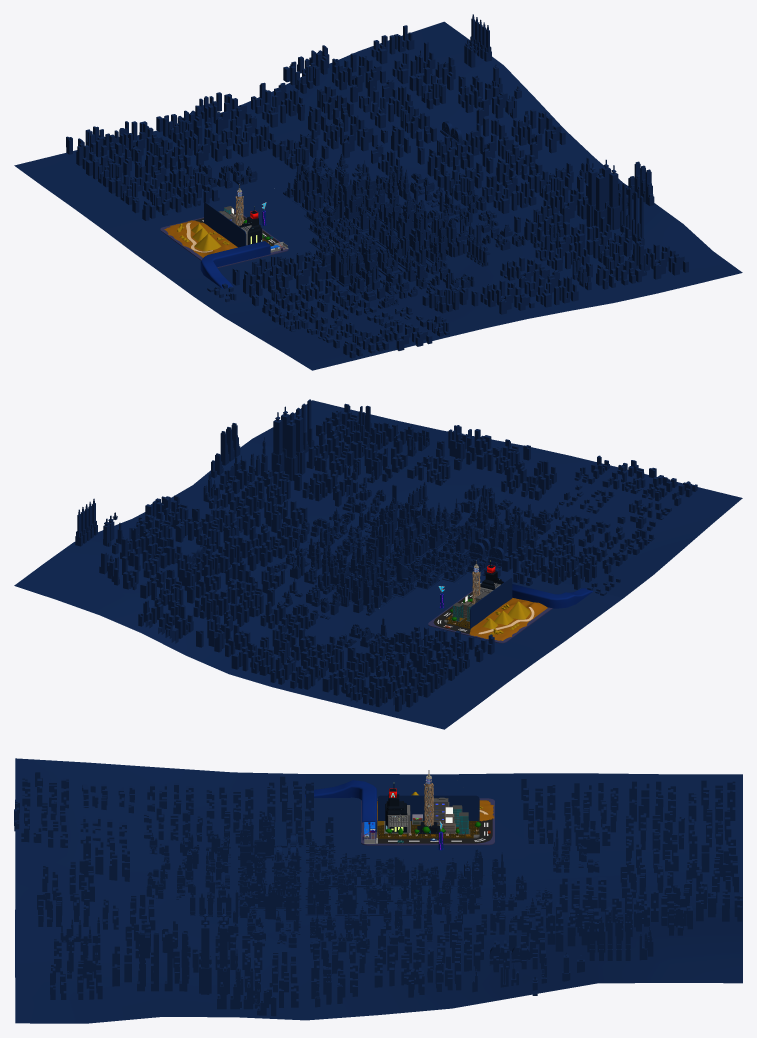
File: worldsss.glb
3 views of the same model, one above another, from view 1: azimuth 30°, elevation 25°; view 2: azimuth 150°, elevation 25°; view 3: azimuth 270°, elevation 25° (orthographic). The views are drawn at different scales.
Visible parts, largest first — view 1: Mesh2, Mesh3, Mesh1, Mesh, sceneGround, metroBulding, Cube, Plane.003; view 2: Mesh3, Mesh2, Mesh1, Mesh, sceneGround, Plane.003, metroBulding, Cube; view 3: Mesh3, Mesh2, Mesh1, Mesh, sceneGround, Cube, metroBulding, Road, Ground, groundCity, building1.
Boxes of the visible parts, left/top/right/bottom form: Mesh2: left=66, top=14, right=688, bottom=314; Mesh3: left=14, top=21, right=742, bottom=370; Mesh1: left=198, top=50, right=646, bottom=308; Mesh: left=208, top=165, right=466, bottom=286; sceneGround: left=104, top=188, right=361, bottom=295; metroBulding: left=200, top=241, right=270, bottom=288; Cube: left=204, top=202, right=246, bottom=247; Plane.003: left=164, top=220, right=237, bottom=257; Mesh3: left=14, top=400, right=742, bottom=729; Mesh2: left=75, top=399, right=596, bottom=711; Mesh1: left=103, top=405, right=563, bottom=654; Mesh: left=322, top=497, right=528, bottom=647; sceneGround: left=362, top=558, right=623, bottom=662; Plane.003: left=469, top=598, right=547, bottom=640; metroBulding: left=503, top=581, right=592, bottom=608; Cube: left=470, top=578, right=512, bottom=628; Mesh3: left=14, top=758, right=742, bottom=1023; Mesh2: left=37, top=775, right=742, bottom=1009; Mesh1: left=60, top=828, right=653, bottom=1016; Mesh: left=238, top=813, right=599, bottom=921; sceneGround: left=306, top=773, right=524, bottom=876; Cube: left=377, top=795, right=479, bottom=820; metroBulding: left=305, top=780, right=376, bottom=832; Road: left=378, top=818, right=492, bottom=843; Ground: left=361, top=798, right=494, bottom=845; groundCity: left=377, top=821, right=479, bottom=837; building1: left=385, top=783, right=407, bottom=832.
Bounding box in the file's own units: 265 × 55.59 × 319.
